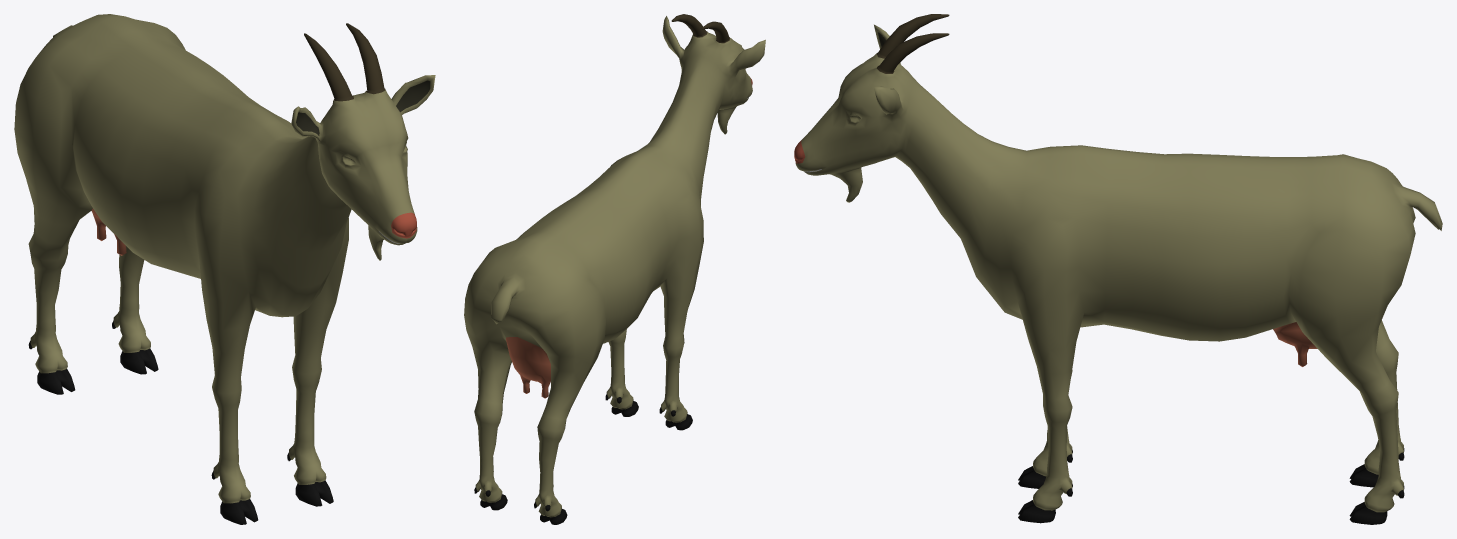
The model's file is goat_goat.obj.
The picture shows the model from 3 angles, left to right: view 1: azimuth 30°, elevation 25°; view 2: azimuth 150°, elevation 25°; view 3: azimuth 270°, elevation 25°; orthographic projection. The views are drawn at different scales.
Parts seen in each view (by area): view 1: goat; view 2: goat; view 3: goat.
Boxes of the visible parts, x1=… form: goat: x1=14, y1=14, x2=435, y2=524; goat: x1=464, y1=14, x2=765, y2=524; goat: x1=794, y1=14, x2=1442, y2=524.
Bounding box in the file's own units: 0.2885 × 0.8458 × 1.04.
